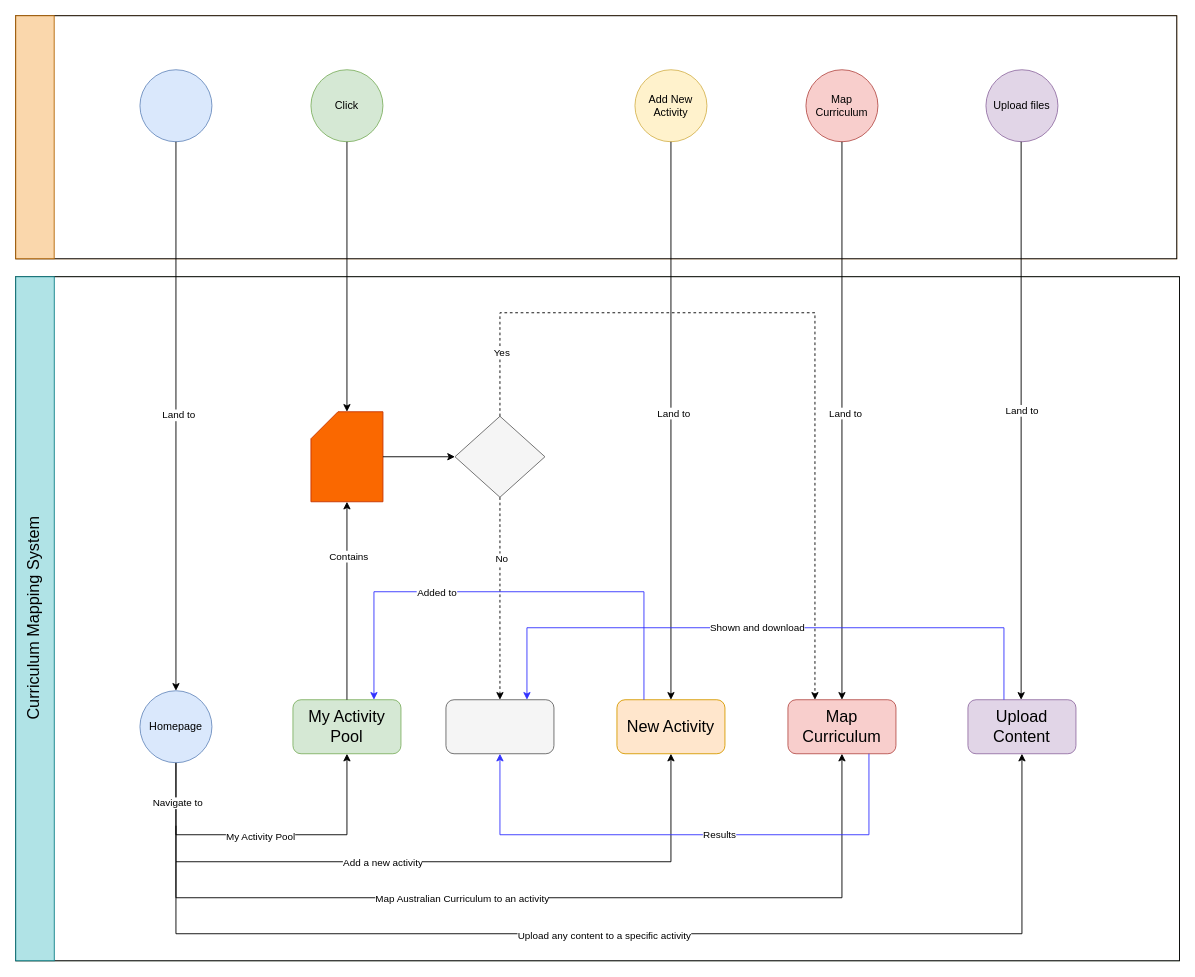
This 1195x977 diagram has some shape labels left out. Each missing label, with the centre of its shape:
"Activity Detail Page" goes at point (499, 726).
"Each Activity Card" goes at point (346, 456).
"ifMap?" goes at point (499, 456).
"Login" goes at point (175, 105).
"User" goes at point (34, 137).
